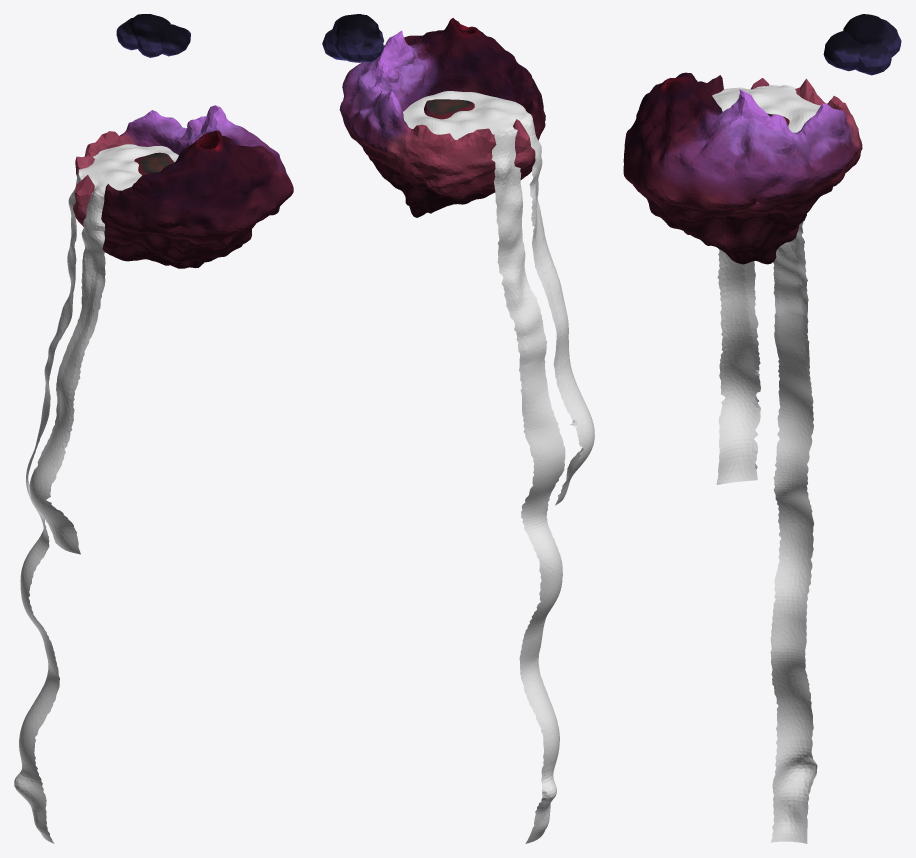
File: floating island.fbx
The picture shows the model from 3 angles, left to right: view 1: azimuth 30°, elevation 25°; view 2: azimuth 150°, elevation 25°; view 3: azimuth 270°, elevation 25°; orthographic projection. The views are drawn at different scales.
Parts seen in each view (by area): view 1: island, Plane, cloud; view 2: Plane, island, cloud; view 3: Plane, island, cloud.
Boxes of the visible parts, box(x1,y1,x2,y2) form: island: box(73, 105, 293, 268); Plane: box(14, 144, 178, 843); cloud: box(116, 14, 190, 57); Plane: box(403, 91, 594, 843); island: box(339, 18, 545, 217); cloud: box(322, 14, 384, 62); Plane: box(712, 84, 820, 843); island: box(623, 72, 862, 264); cloud: box(823, 14, 901, 75).
Size of the model in its own units: 12679 by 39230 by 10952.
